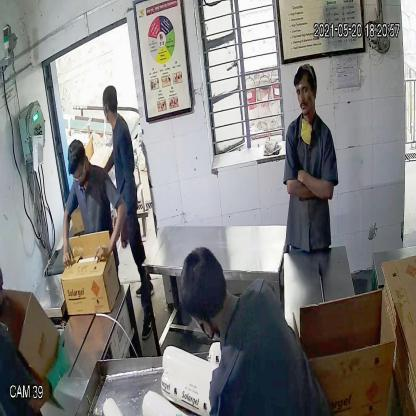no_goggles: (293, 78, 314, 98)
